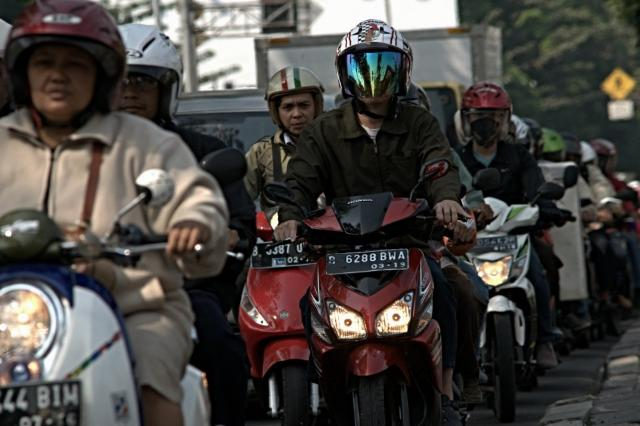helm: (1, 2, 127, 119), (335, 16, 415, 112), (114, 21, 187, 125), (265, 66, 323, 136), (461, 81, 514, 154)
motor: (261, 163, 472, 426), (1, 168, 212, 426), (429, 180, 566, 426), (233, 198, 331, 426)
